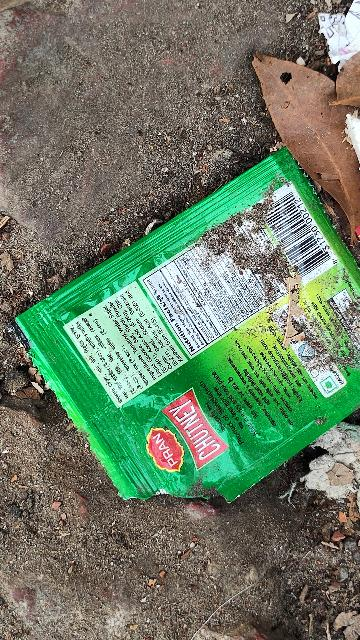packet: (11, 100, 360, 524)
